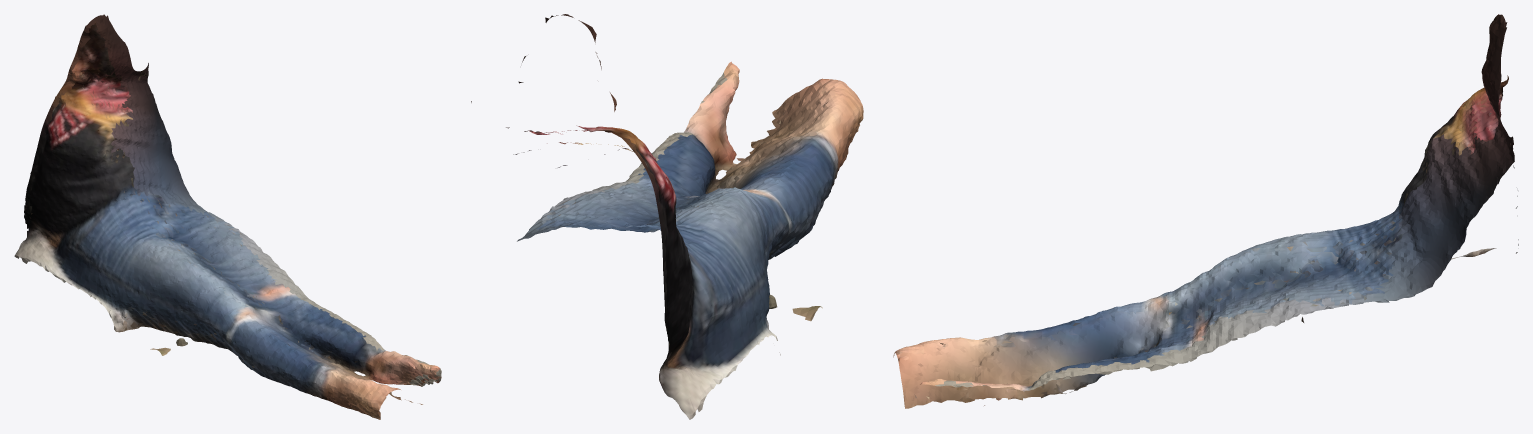
3 views of the same model, side by side, from view 1: azimuth 30°, elevation 25°; view 2: azimuth 150°, elevation 25°; view 3: azimuth 270°, elevation 25° (orthographic). The views are drawn at different scales.
Size of the model in its own units: 0.5545 by 0.6539 by 1.13.
Materials: 1 (1 with a texture image).
